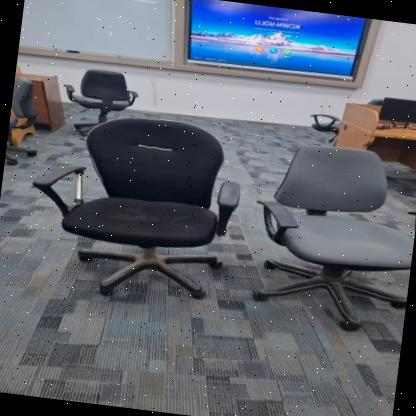chair: (14, 94, 256, 316), (237, 128, 416, 339), (58, 53, 150, 149)
